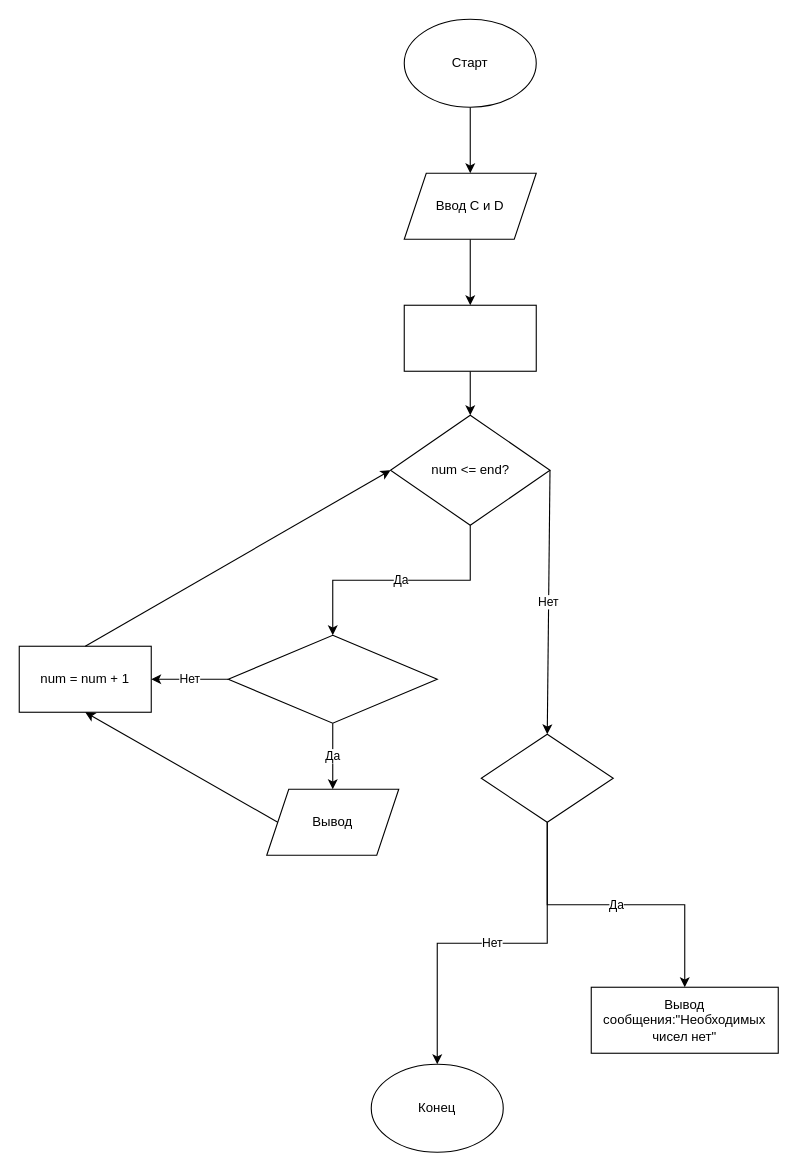
The diagram is 798 pixels wide and 1172 high, and some of its shapes have lost their labels. The shapes that lost their labels are listed below. From the top down, each one's centre as x and y in pixels, then its label:
At (469,337): "Корректировка границ".
At (332,678): "sumHigh == sumLow?".
At (546,777): "found == false?".
